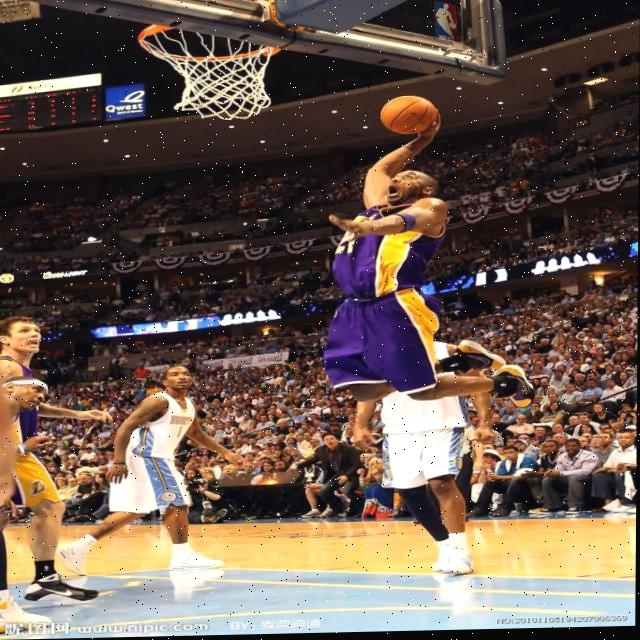basketball: (379, 95, 437, 134)
hoop: (136, 20, 281, 121)
